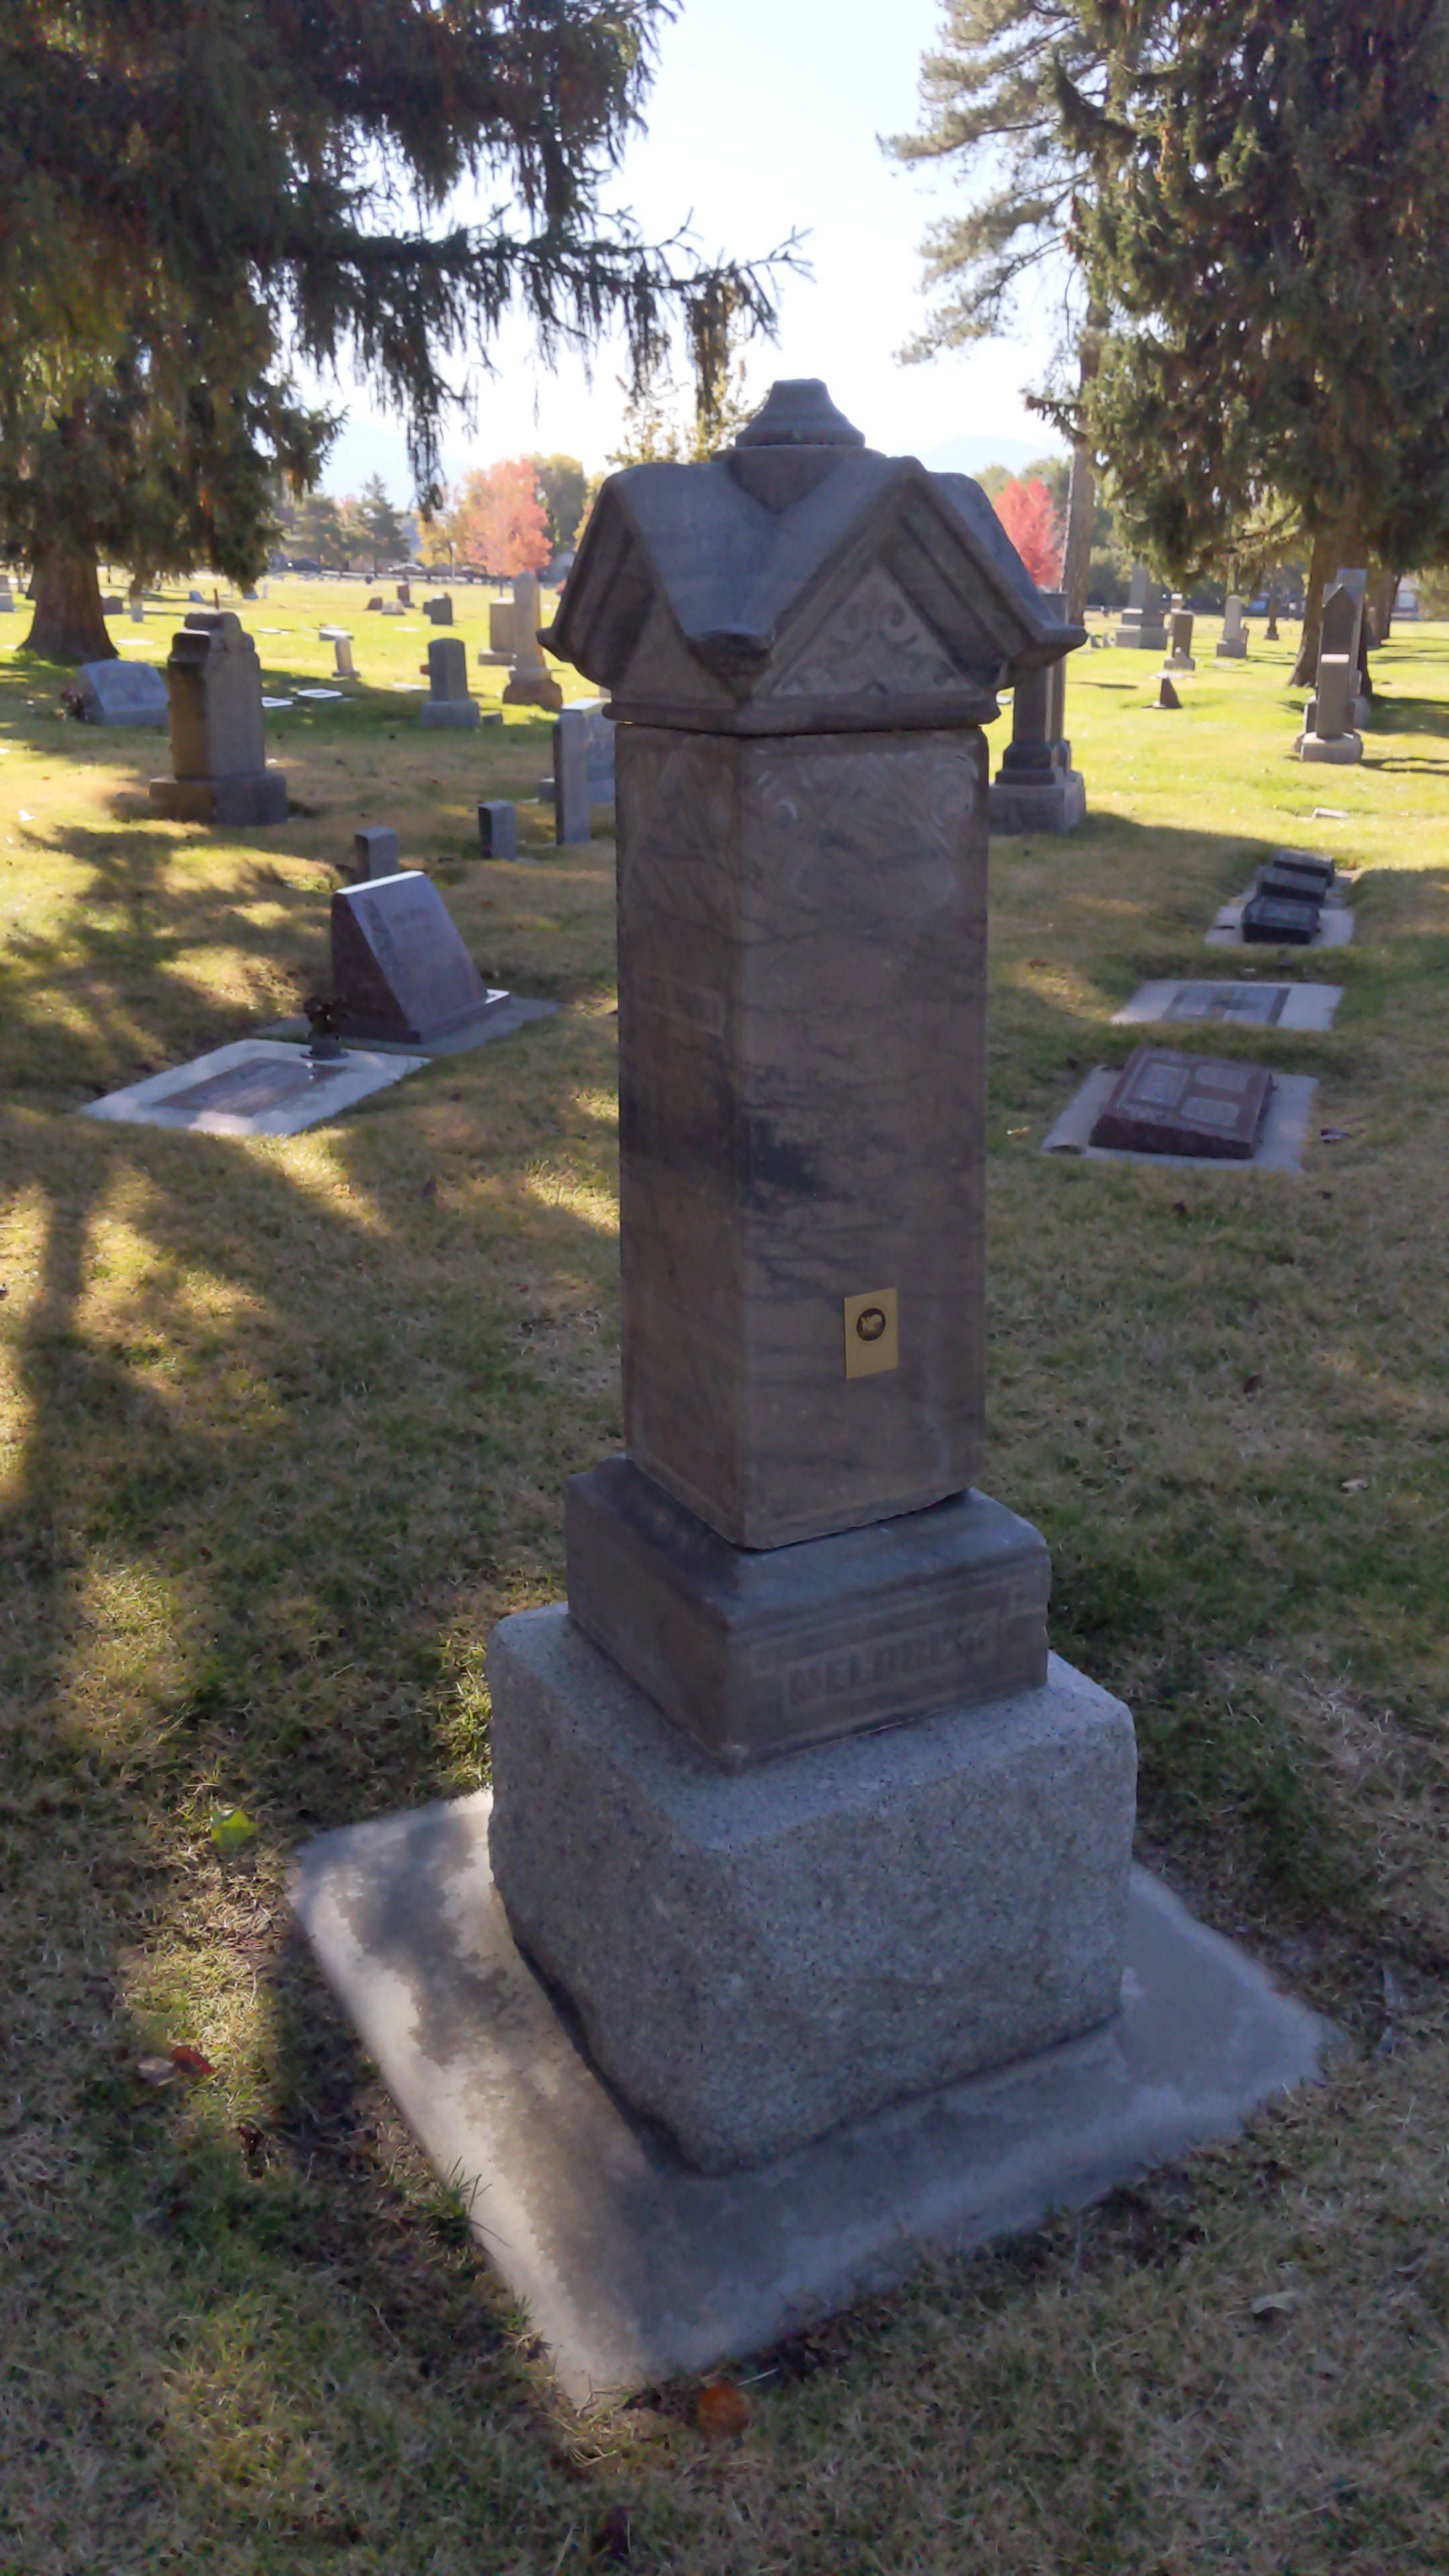obelisk: (547, 384, 1042, 1767)
